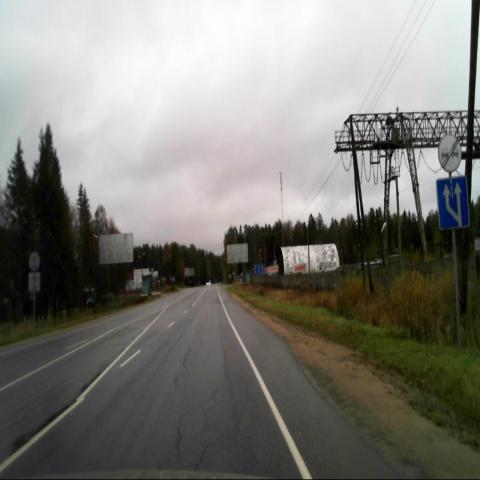3_21: (437, 134, 461, 173)
